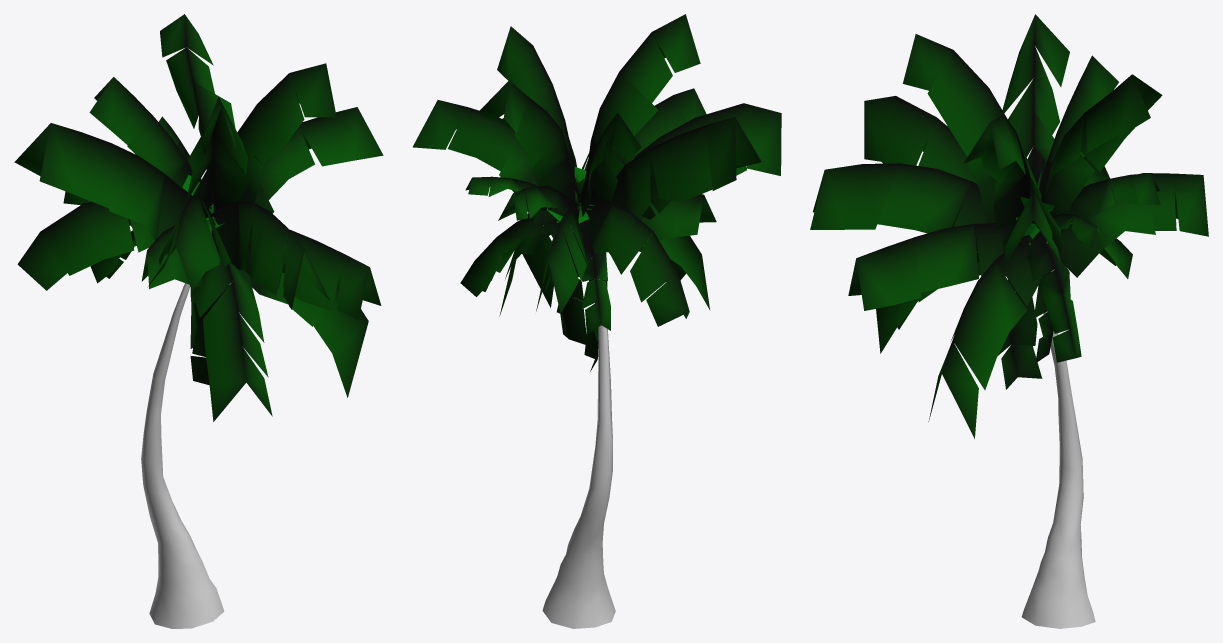
The model's file is CoconutPalmTree02_afsTREE_xlprl05_xef99_xmm_xlod01.fbx.
The picture shows the model from 3 angles, left to right: view 1: azimuth 30°, elevation 25°; view 2: azimuth 150°, elevation 25°; view 3: azimuth 270°, elevation 25°; orthographic projection. The views are drawn at different scales.
Visible parts, largest first — view 1: branch19_xw08_xt08_xp02_xlp04, trunk_xw08_xt00_xlp00, branch01_xw06_xt07_xp07_xlp04, branch17_xw08_xt09_xlp04, branch02_xw08_xt08_xlp05_xp01, branch10_xw10_xt08_xp10_xlp05, branch11_xw08_xt08_xlp04, branch17_xw12_xt10_xlp06_xp06, branch21_xw08_xt08_xp06_xlp05, branch02_xw08_xt08_xlp04, branch12_xw11_xt09_xp03_xlp06, branch03_xw06_xt07_xlp04 (+4 smaller); view 2: trunk_xw08_xt00_xlp00, branch19_xw08_xt08_xp02_xlp04, branch17_xw12_xt10_xlp06_xp06, branch17_xw08_xt09_xlp04, branch11_xw08_xt08_xlp04, branch12_xw11_xt09_xp03_xlp06, branch20_xw09_xt08_xp09_xlp04, branch10_xw10_xt08_xp10_xlp05, branch21_xw08_xt08_xp06_xlp05, branch14_xw08_xt09_xp10_xlp06, branch04_xw05_xt07_xlp05_xp02, branch07_xw04_xt08_xlp06_xp05 (+7 smaller); view 3: branch02_xw08_xt08_xlp05_xp01, trunk_xw08_xt00_xlp00, branch02_xw08_xt08_xlp04, branch03_xw06_xt07_xlp04, branch12_xw11_xt09_xp03_xlp06, branch17_xw12_xt10_xlp06_xp06, branch14_xw08_xt09_xp10_xlp06, branch19_xw08_xt08_xp02_xlp04, branch20_xw09_xt08_xp09_xlp04, branch10_xw10_xt08_xp10_xlp05, branch04_xw05_xt07_xlp05_xp02, branch15_xw08_xt09_xlp06_xp09 (+7 smaller).
Boxes of the visible parts, bbox=[...] form: branch19_xw08_xt08_xp02_xlp04: bbox=[14, 123, 192, 240]; trunk_xw08_xt00_xlp00: bbox=[141, 283, 224, 628]; branch01_xw06_xt07_xp07_xlp04: bbox=[192, 250, 272, 421]; branch17_xw08_xt09_xlp04: bbox=[17, 201, 154, 290]; branch02_xw08_xt08_xlp05_xp01: bbox=[211, 200, 330, 309]; branch10_xw10_xt08_xp10_xlp05: bbox=[237, 63, 336, 202]; branch11_xw08_xt08_xlp04: bbox=[254, 107, 383, 213]; branch17_xw12_xt10_xlp06_xp06: bbox=[186, 97, 250, 212]; branch21_xw08_xt08_xp06_xlp05: bbox=[89, 77, 192, 187]; branch02_xw08_xt08_xlp04: bbox=[244, 229, 381, 319]; branch12_xw11_xt09_xp03_xlp06: bbox=[160, 14, 235, 169]; branch03_xw06_xt07_xlp04: bbox=[250, 272, 368, 397]; trunk_xw08_xt00_xlp00: bbox=[542, 258, 615, 628]; branch19_xw08_xt08_xp02_xlp04: bbox=[579, 116, 761, 219]; branch17_xw12_xt10_xlp06_xp06: bbox=[585, 14, 700, 177]; branch17_xw08_xt09_xlp04: bbox=[584, 203, 689, 326]; branch11_xw08_xt08_xlp04: bbox=[413, 100, 555, 225]; branch12_xw11_xt09_xp03_xlp06: bbox=[477, 80, 581, 210]; branch20_xw09_xt08_xp09_xlp04: bbox=[634, 103, 781, 175]; branch10_xw10_xt08_xp10_xlp05: bbox=[497, 26, 577, 182]; branch21_xw08_xt08_xp06_xlp05: bbox=[580, 112, 641, 216]; branch14_xw08_xt09_xp10_xlp06: bbox=[536, 208, 589, 313]; branch04_xw05_xt07_xlp05_xp02: bbox=[460, 215, 559, 296]; branch07_xw04_xt08_xlp06_xp05: bbox=[572, 221, 610, 335]; branch02_xw08_xt08_xlp05_xp01: bbox=[810, 163, 995, 253]; trunk_xw08_xt00_xlp00: bbox=[1021, 285, 1095, 628]; branch02_xw08_xt08_xlp04: bbox=[848, 223, 1012, 310]; branch03_xw06_xt07_xlp04: bbox=[928, 237, 1042, 438]; branch12_xw11_xt09_xp03_xlp06: bbox=[1040, 74, 1162, 234]; branch17_xw12_xt10_xlp06_xp06: bbox=[902, 34, 1008, 222]; branch14_xw08_xt09_xp10_xlp06: bbox=[1058, 173, 1208, 277]; branch19_xw08_xt08_xp02_xlp04: bbox=[1002, 14, 1069, 186]; branch20_xw09_xt08_xp09_xlp04: bbox=[864, 96, 976, 183]; branch10_xw10_xt08_xp10_xlp05: bbox=[963, 115, 1041, 232]; branch04_xw05_xt07_xlp05_xp02: bbox=[1026, 234, 1081, 362]; branch15_xw08_xt09_xlp06_xp09: bbox=[1041, 173, 1160, 242].
Size of what is drawn, in the model's own units: 12.05 by 12.44 by 19.55.
